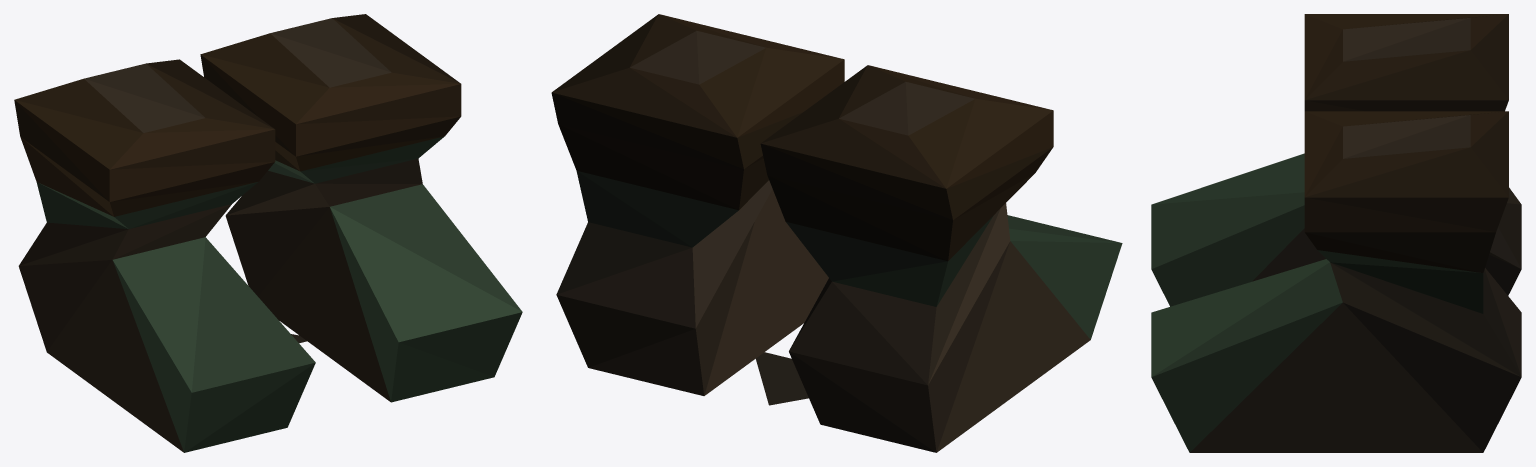
The model's file is adamant-boots.obj.
3 renders of one model, left to right at view 1: azimuth 30°, elevation 25°; view 2: azimuth 150°, elevation 25°; view 3: azimuth 270°, elevation 25°, orthographic. The views are drawn at different scales.
Visible parts, largest first — view 1: Item Adamant boots 2026-09-24_18-24-11; view 2: Item Adamant boots 2026-09-24_18-24-11; view 3: Item Adamant boots 2026-09-24_18-24-11.
Boxes of the visible parts, x1,y1,x2,y2 form: Item Adamant boots 2026-09-24_18-24-11: (14,14,522,452); Item Adamant boots 2026-09-24_18-24-11: (551,14,1122,452); Item Adamant boots 2026-09-24_18-24-11: (1151,14,1521,452).
Bounding box in the file's own units: 34 × 25 × 29.
